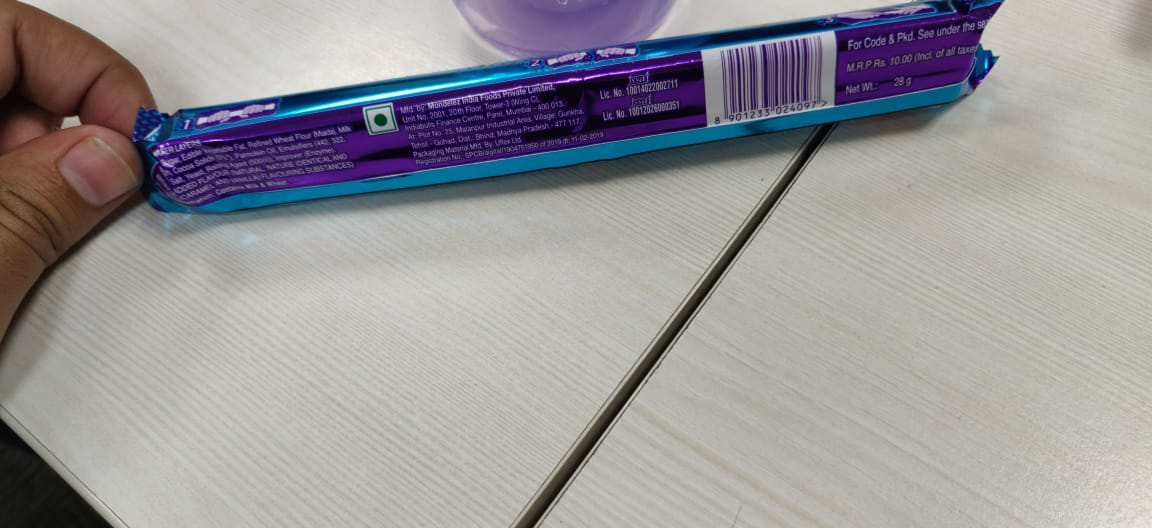perk: (137, 1, 1015, 222)
